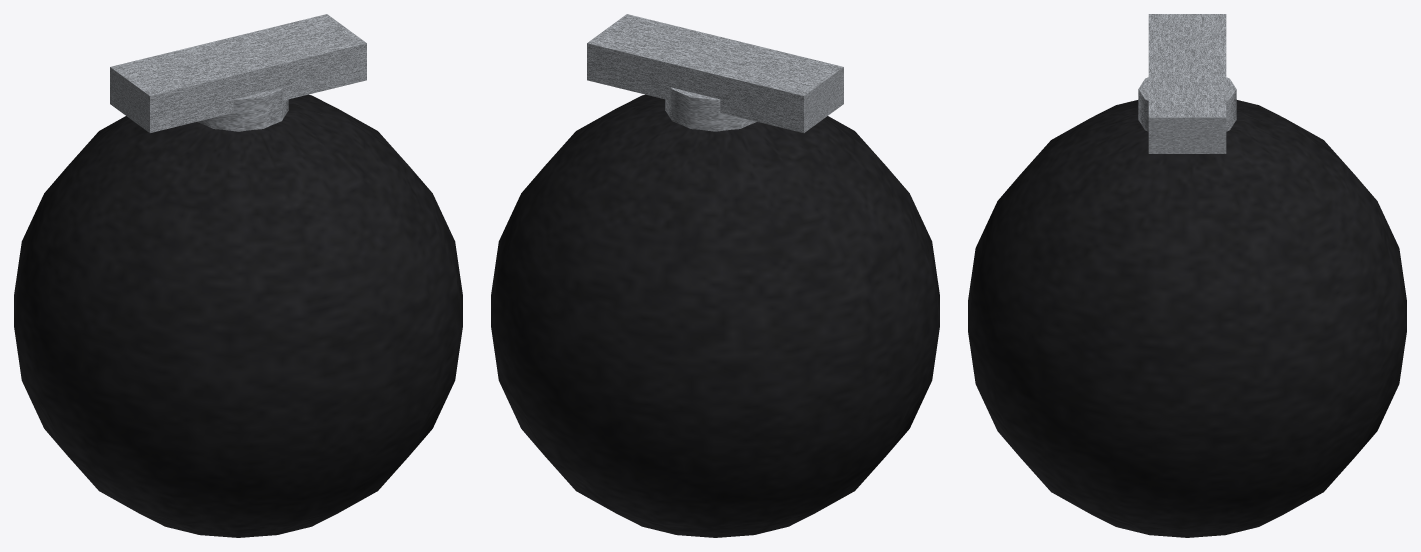
File: wheel_caster.obj
3 views of the same model, side by side, from view 1: azimuth 30°, elevation 25°; view 2: azimuth 150°, elevation 25°; view 3: azimuth 270°, elevation 25° (orthographic). The views are drawn at different scales.
Bounding box in the file's own units: 0.1 × 0.112 × 0.0985.
2 materials, 2 textured.
